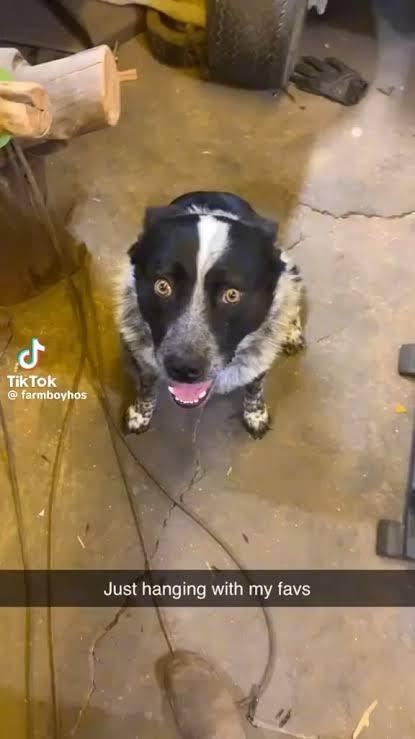adult_dog: (115, 188, 308, 439)
